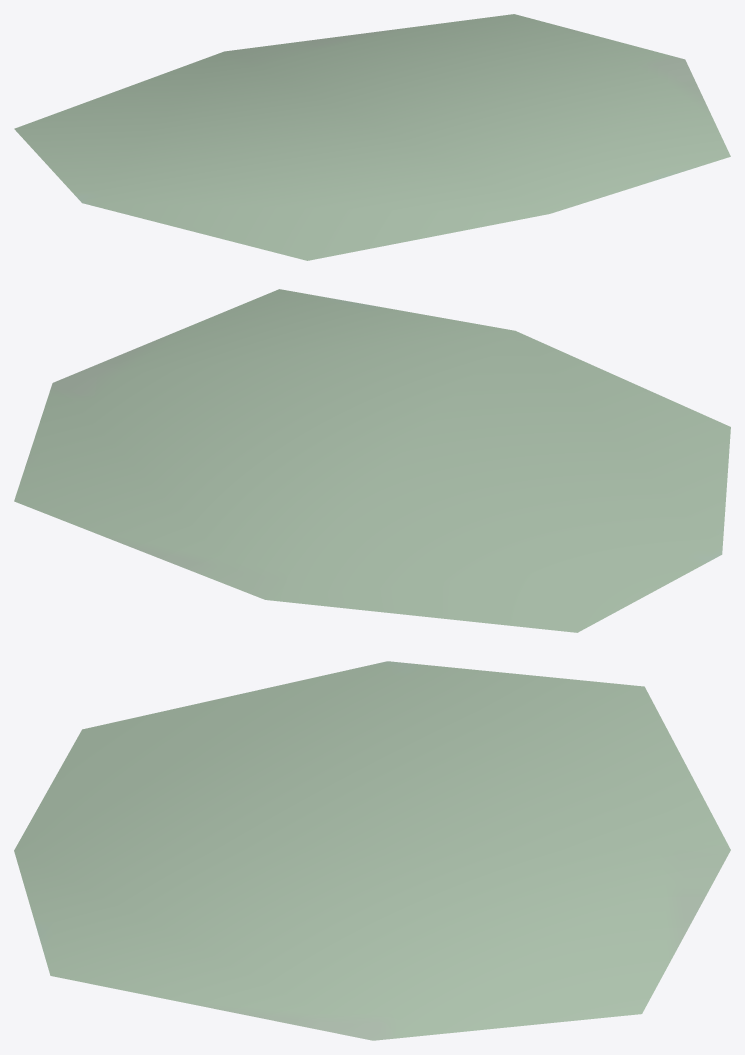
The model's file is TROLLHOLE02_HOLECAP08.fbx.
3 views of the same model, one above another, from view 1: azimuth 30°, elevation 25°; view 2: azimuth 150°, elevation 25°; view 3: azimuth 270°, elevation 25° (orthographic). The views are drawn at different scales.
Visible parts, largest first — view 1: TROLLHOLE02_HOLECAP08; view 2: TROLLHOLE02_HOLECAP08; view 3: TROLLHOLE02_HOLECAP08.
Boxes of the visible parts, left/top/right/bottom form: TROLLHOLE02_HOLECAP08: left=14, top=14, right=730, bottom=260; TROLLHOLE02_HOLECAP08: left=14, top=289, right=730, bottom=632; TROLLHOLE02_HOLECAP08: left=14, top=661, right=730, bottom=1040.
Bounding box in the file's own units: 27551 × 1111 × 21843.
Materials: 1 (1 with a texture image).
